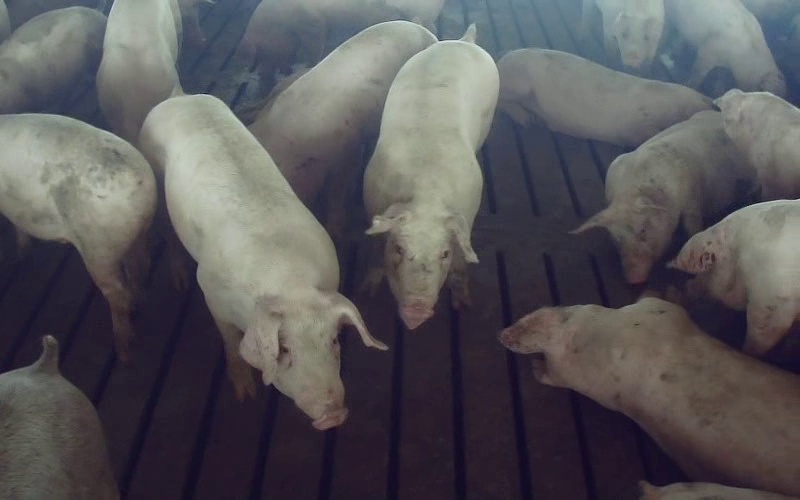pig: (140, 85, 386, 427), (501, 297, 799, 495), (364, 25, 498, 328), (249, 21, 435, 234), (575, 110, 751, 283), (498, 48, 712, 146), (670, 199, 799, 354), (0, 335, 117, 499), (238, 0, 443, 92), (665, 0, 785, 96), (0, 7, 106, 113), (715, 89, 799, 199), (581, 0, 664, 67)
